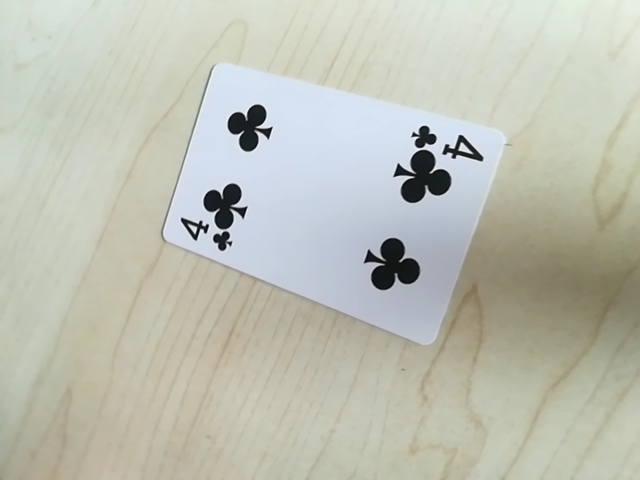mh 4: (411, 124, 490, 162), (172, 218, 240, 254)
